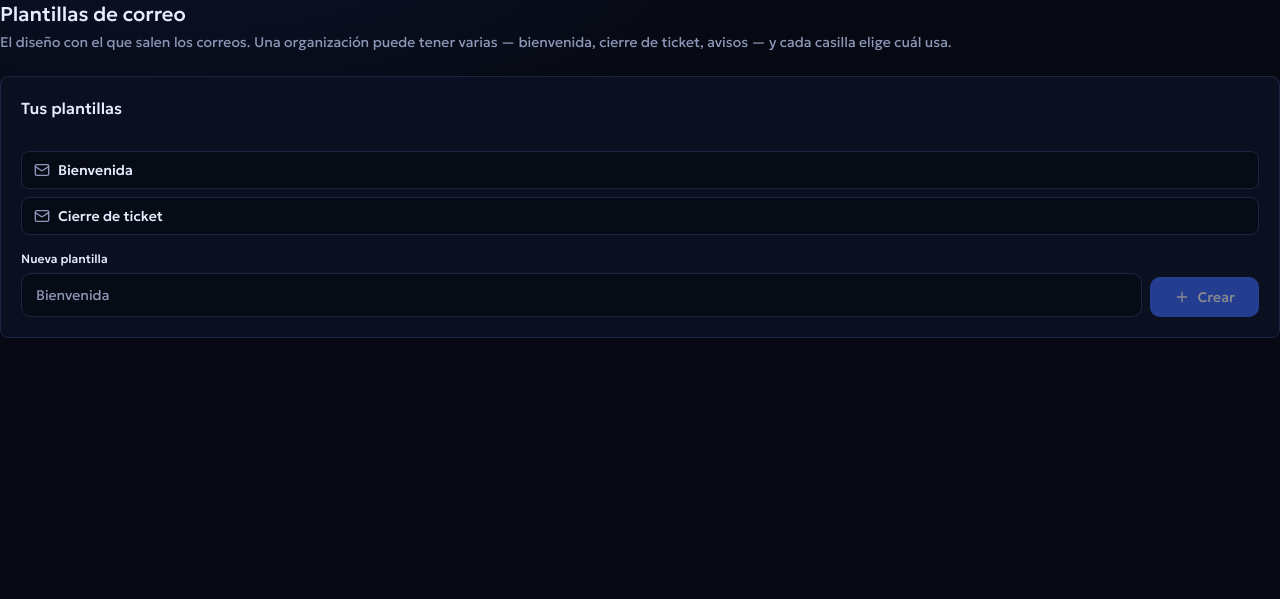
Test: Plantillas de correo › al elegir una plantilla se abre su editor
Click the button "Bienvenida" at (95, 170), box [21,151,1259,189]
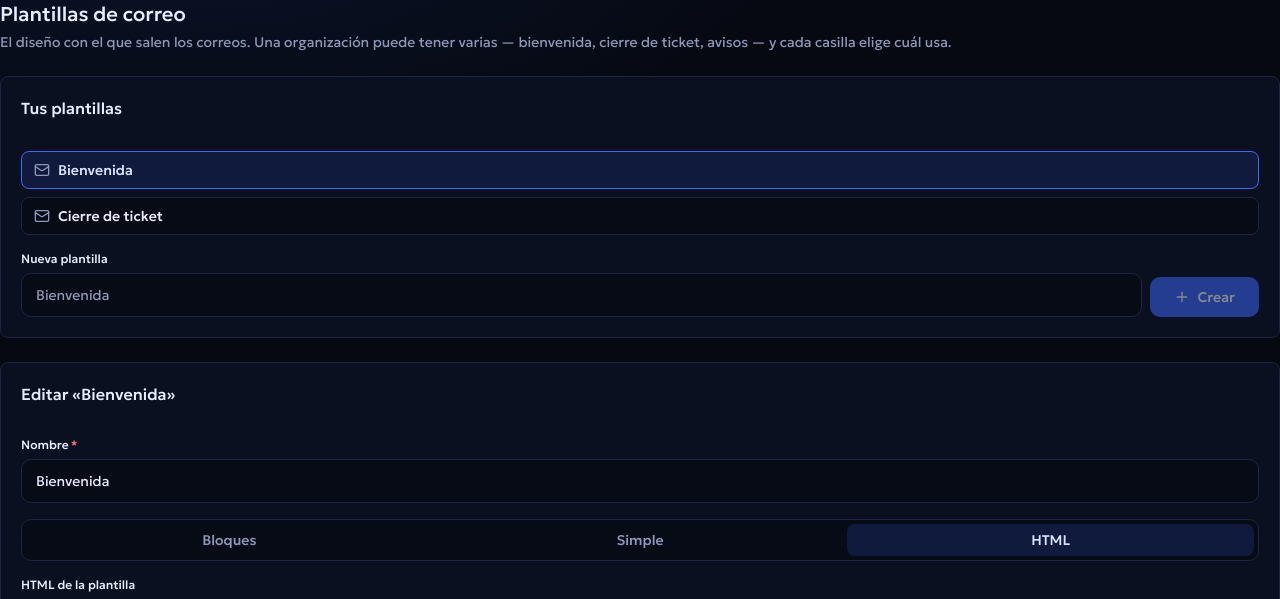
Result: the heading "Editar «Bienvenida»" is shown at [21,384,175,404]
